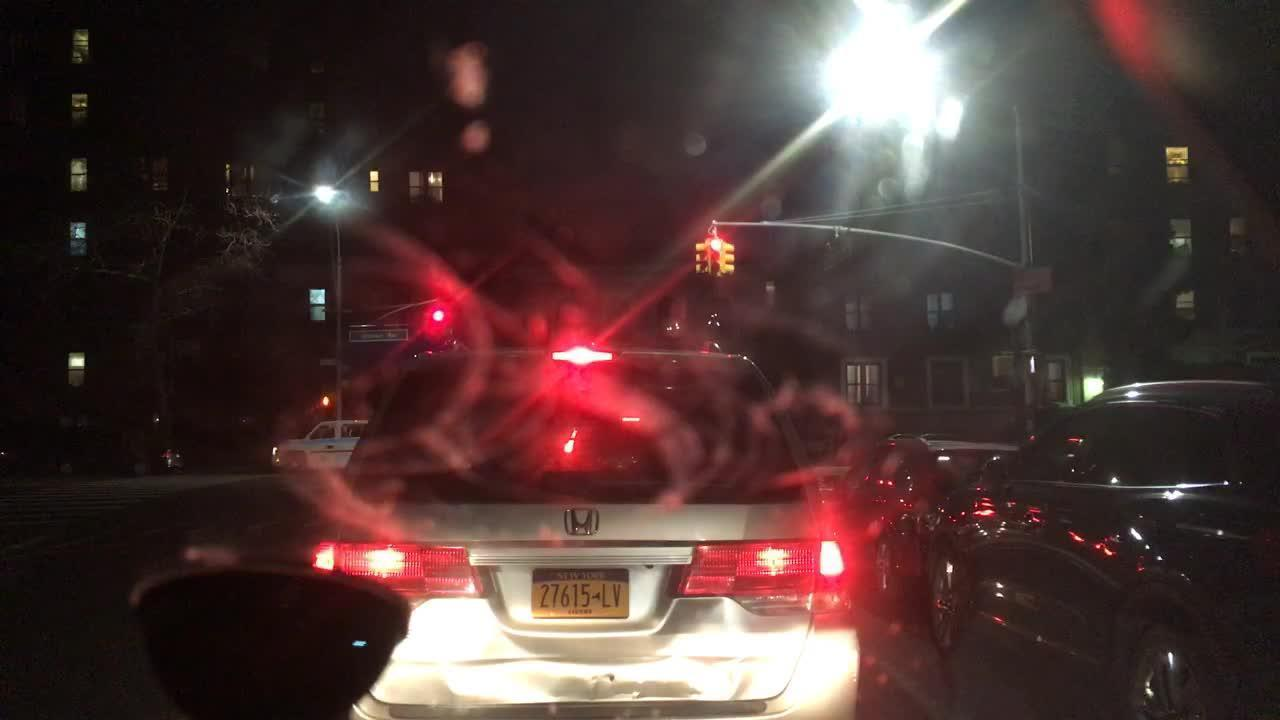Honda: (551, 493, 624, 552)
